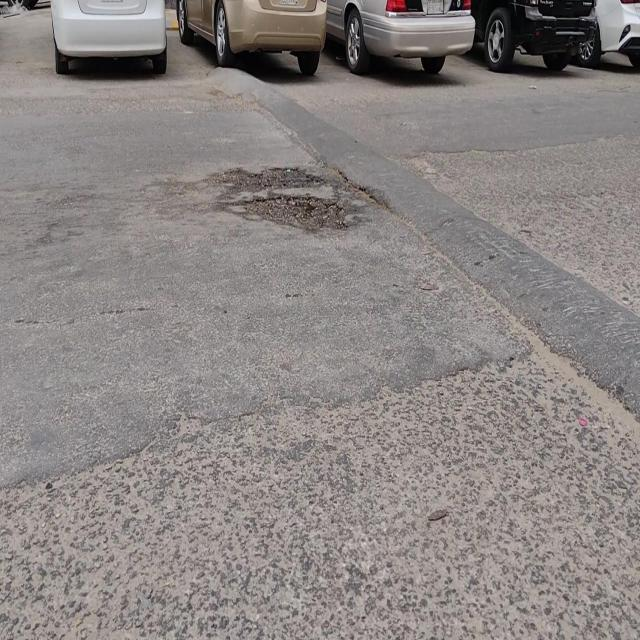Pothole: (217, 162, 348, 236)
